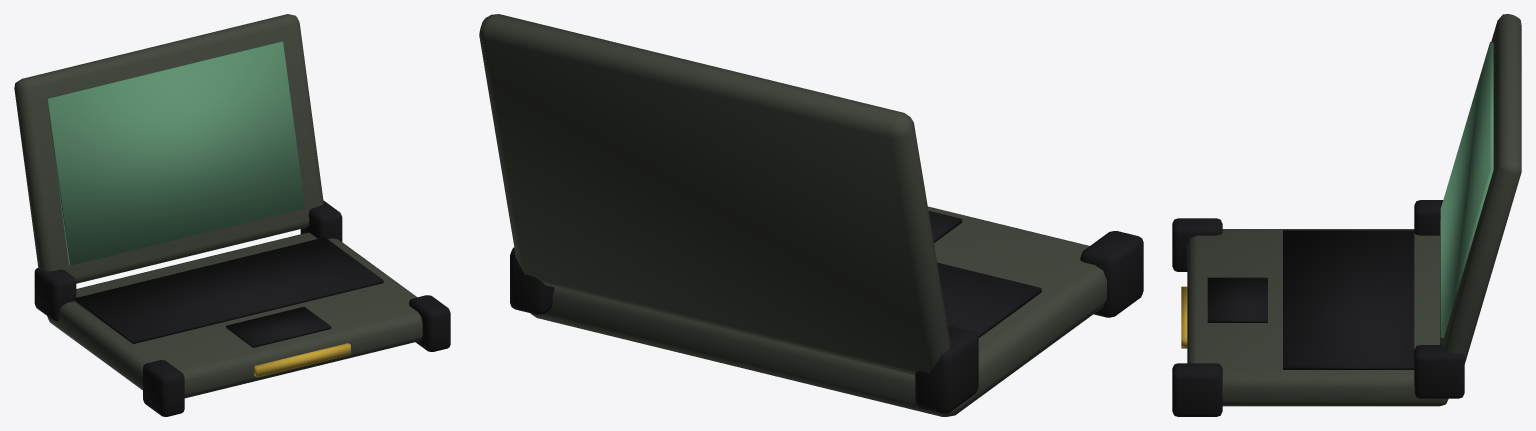
Rendered from predator_laptop.obj.
The picture shows the model from 3 angles, left to right: view 1: azimuth 30°, elevation 25°; view 2: azimuth 150°, elevation 25°; view 3: azimuth 270°, elevation 25°; orthographic projection. The views are drawn at different scales.
Size of the model in its own units: 0.37 by 0.2775 by 0.3466.
